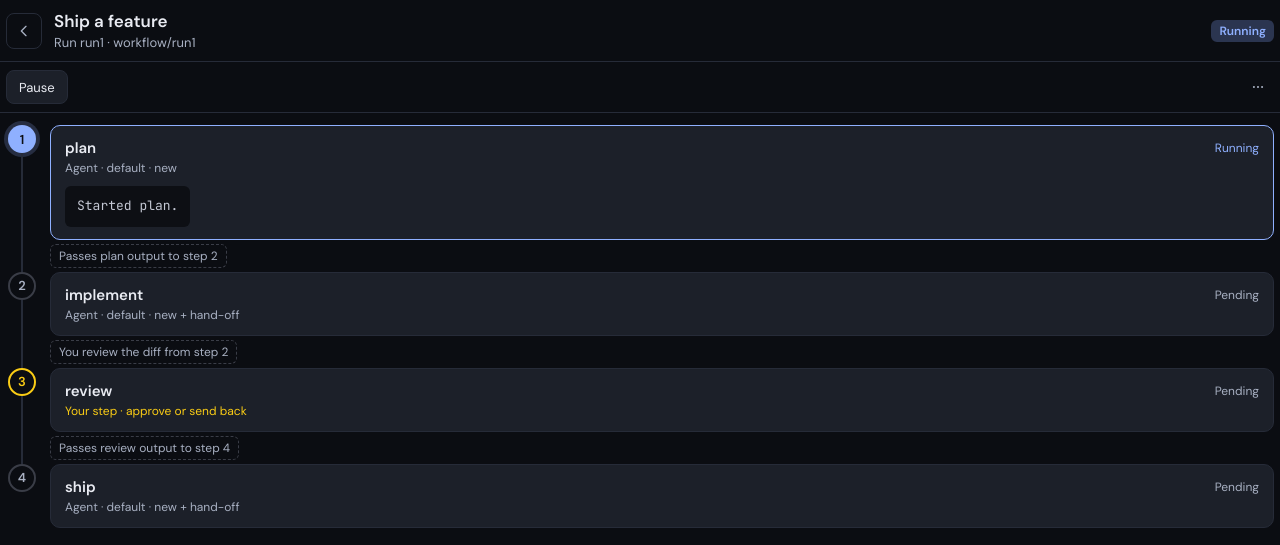
WorkflowsTab responsive layout › collapses secondary actions into a menu at 320px and below
Click the button with test id "overflow-menu" at {"x": 1258, "y": 87}, box [1242,71,1274,103]
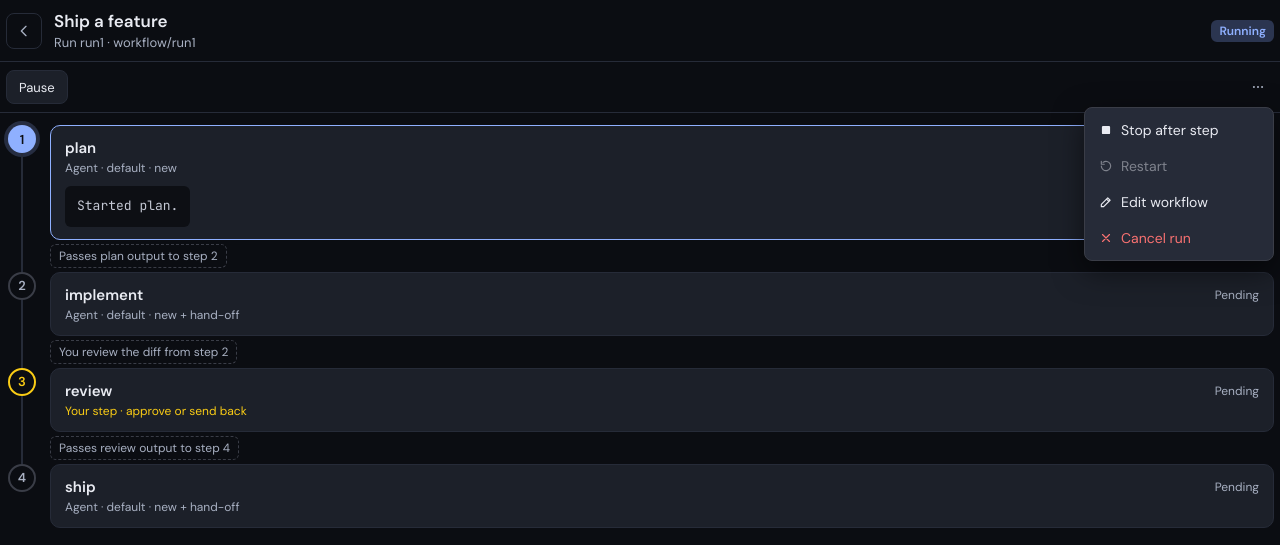
Expected: the menu item "Cancel run" is shown, [1089,220,1269,256]
